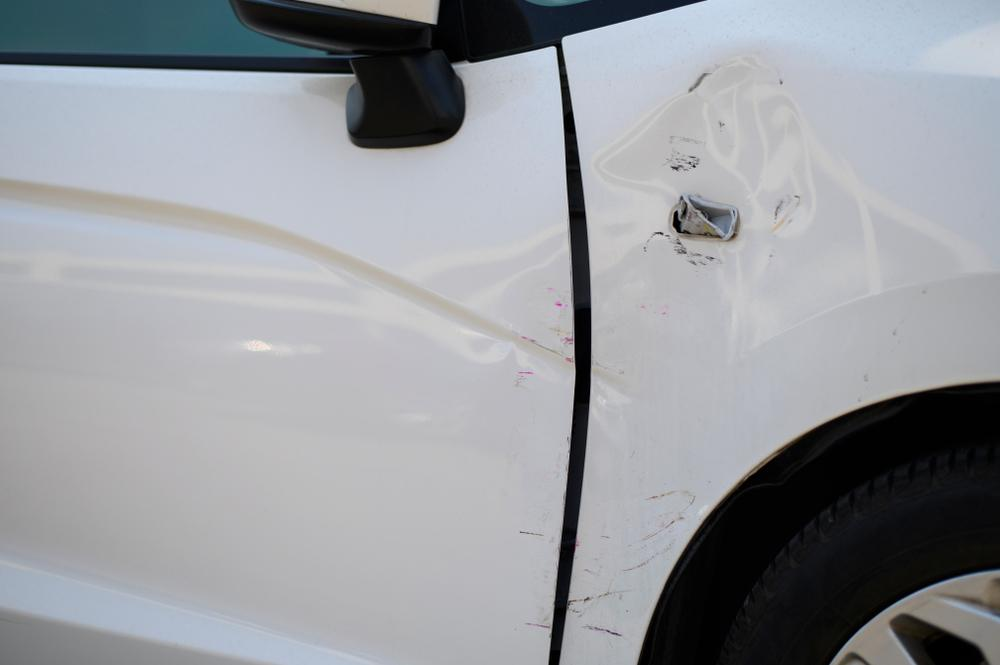dent: (601, 56, 970, 354)
scratch: (574, 478, 697, 640), (508, 282, 572, 397)
